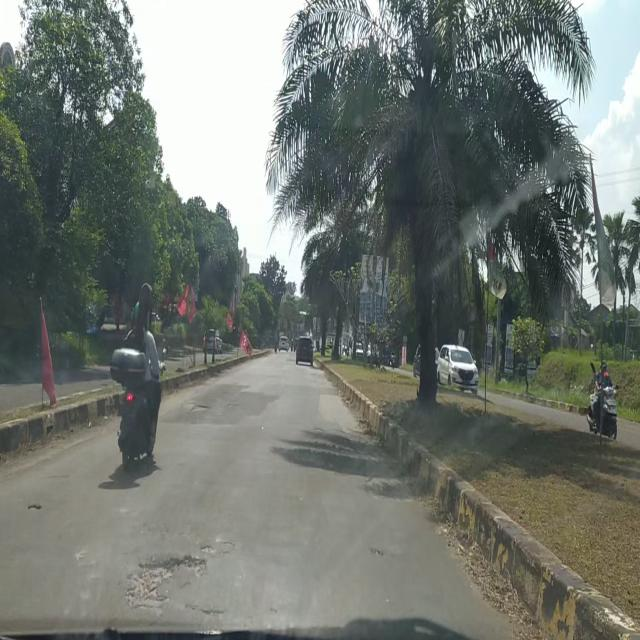Drain Hole: (120, 546, 216, 613)
